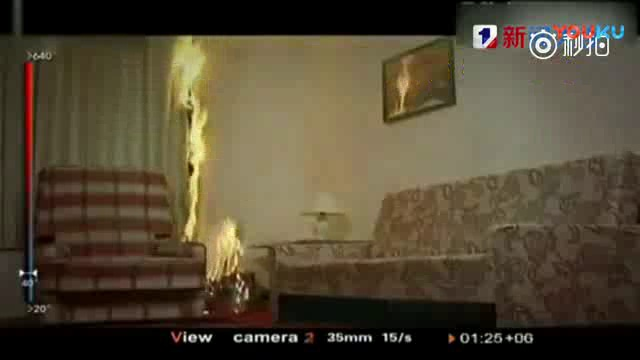fire: (170, 38, 208, 241), (213, 221, 248, 293)
